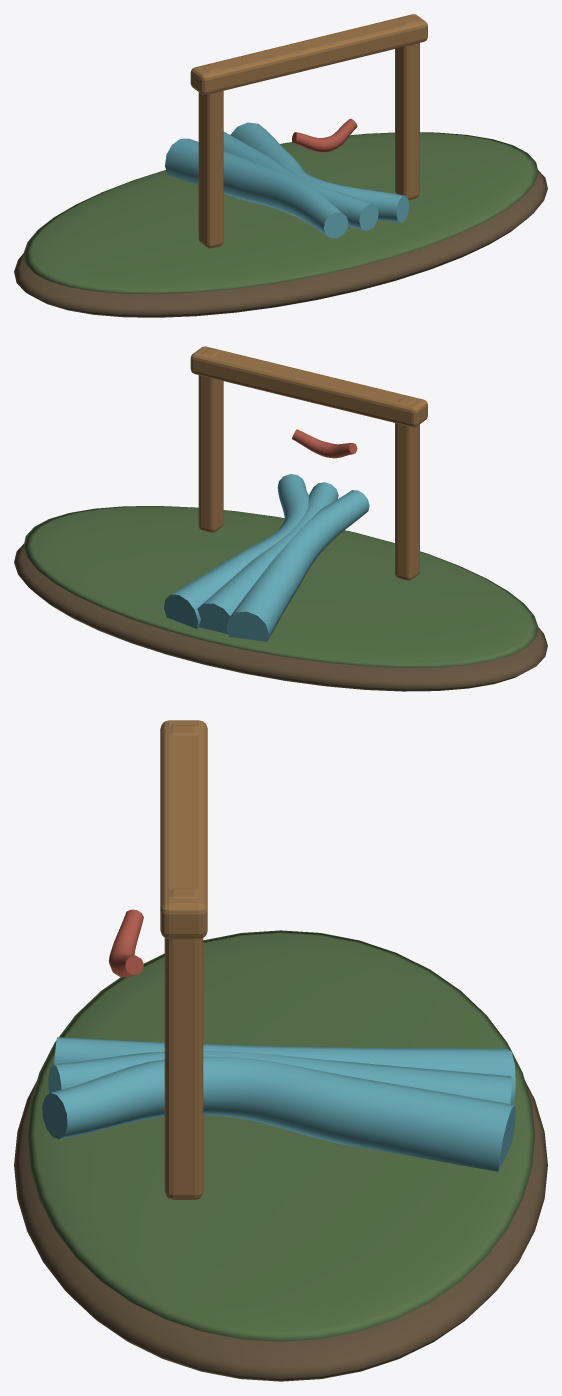
The model's file is river.glb.
3 views of the same model, one above another, from view 1: azimuth 30°, elevation 25°; view 2: azimuth 150°, elevation 25°; view 3: azimuth 270°, elevation 25° (orthographic). The views are drawn at different scales.
Parts seen in each view (by area): view 1: river_surface_01, river_surface_03, river_surface_00, river_surface_02, river_surface_04; view 2: river_surface_01, river_surface_03, river_surface_02, river_surface_00, river_surface_04; view 3: river_surface_01, river_surface_02, river_surface_00, river_surface_03, river_surface_04.
Part boxes in pixels (<box>): river_surface_01: <box>23,132,538,294</box>; river_surface_03: <box>190,14,427,248</box>; river_surface_00: <box>14,170,547,317</box>; river_surface_02: <box>165,122,409,238</box>; river_surface_04: <box>292,118,357,152</box>; river_surface_01: <box>23,506,538,667</box>; river_surface_03: <box>190,346,427,580</box>; river_surface_02: <box>164,474,369,641</box>; river_surface_00: <box>14,544,547,691</box>; river_surface_04: <box>292,429,357,458</box>; river_surface_01: <box>27,930,534,1341</box>; river_surface_02: <box>42,1037,515,1171</box>; river_surface_00: <box>14,1081,547,1381</box>; river_surface_03: <box>160,720,207,1199</box>; river_surface_04: <box>108,909,143,977</box>.
Size of the model in its own units: 4.68 by 2.02 by 2.48.
